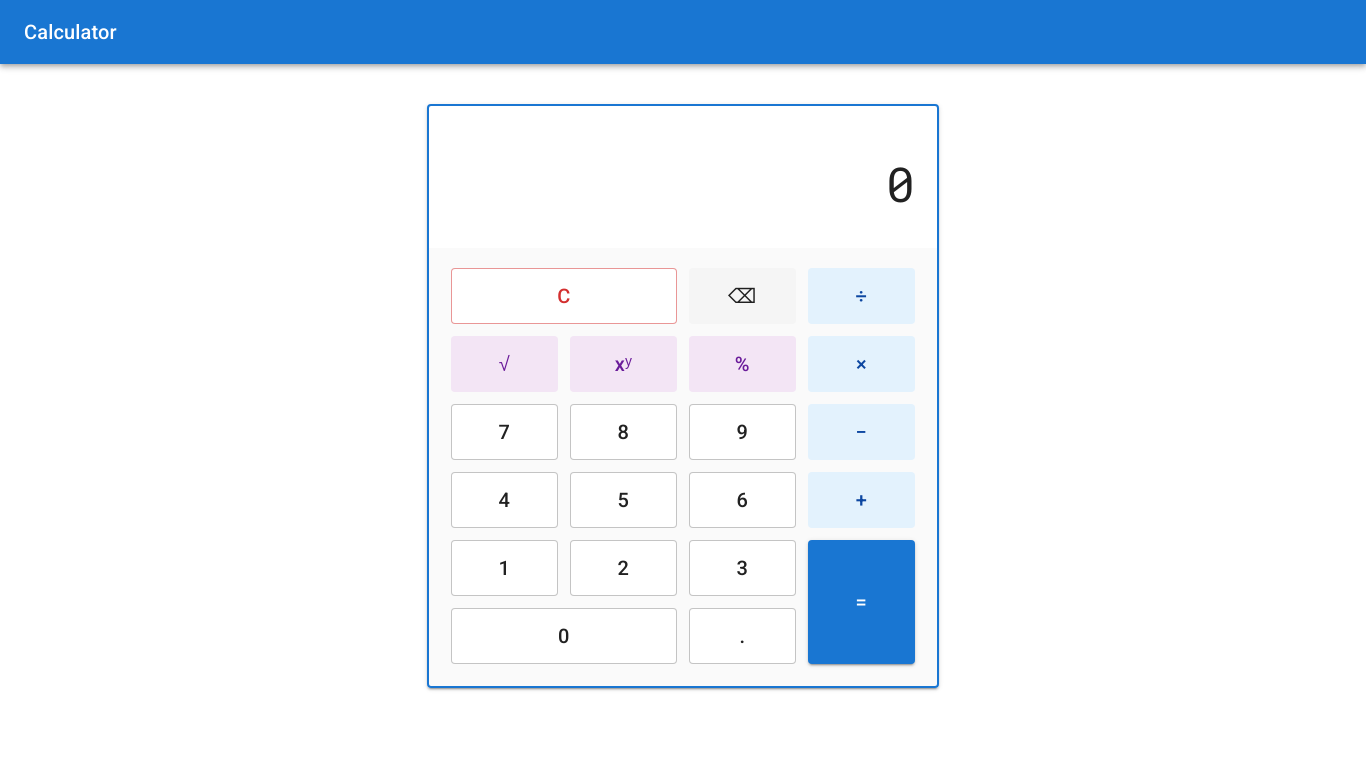
Test: errors › shows a 400 error message on the display instead of the snackbar
Click the button "1" at (504, 568), box [451, 540, 558, 596]
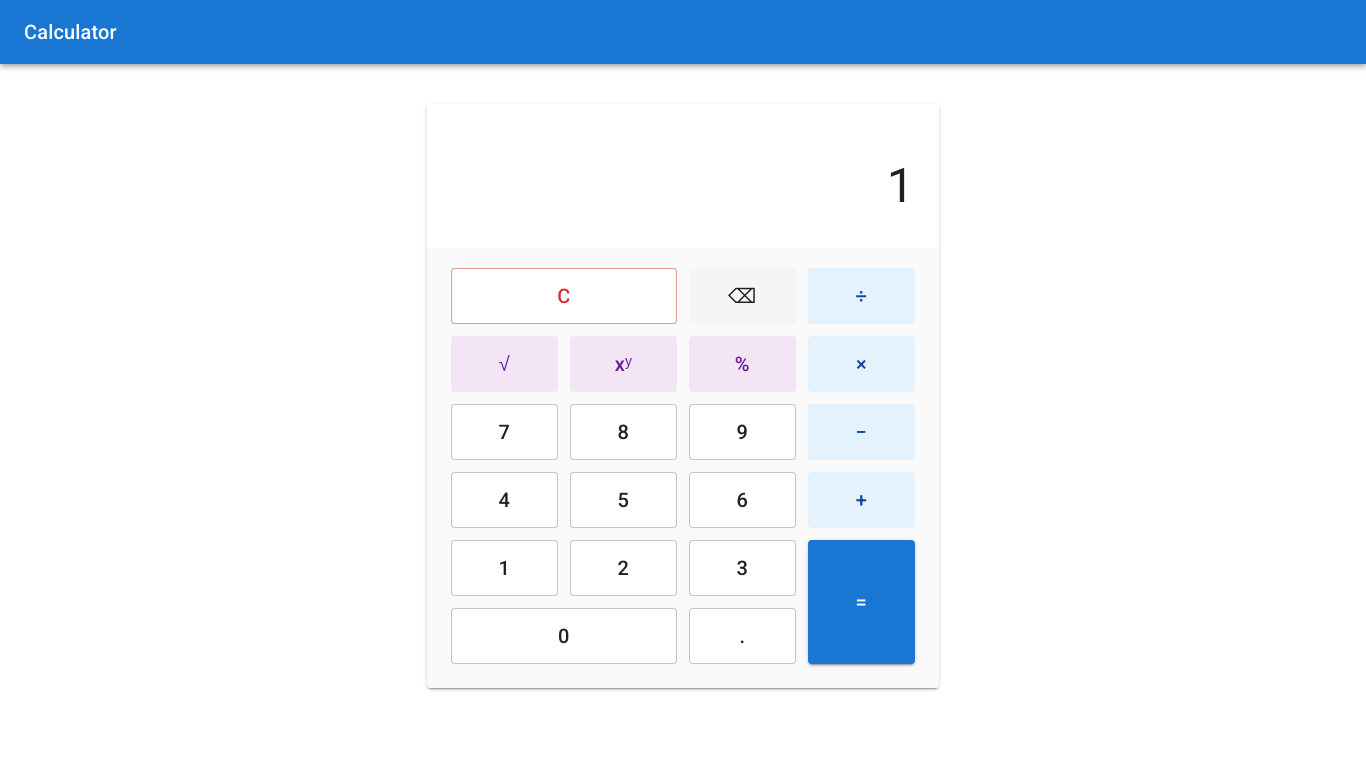
Click the button named "Divide" at (862, 296), box [808, 268, 915, 324]
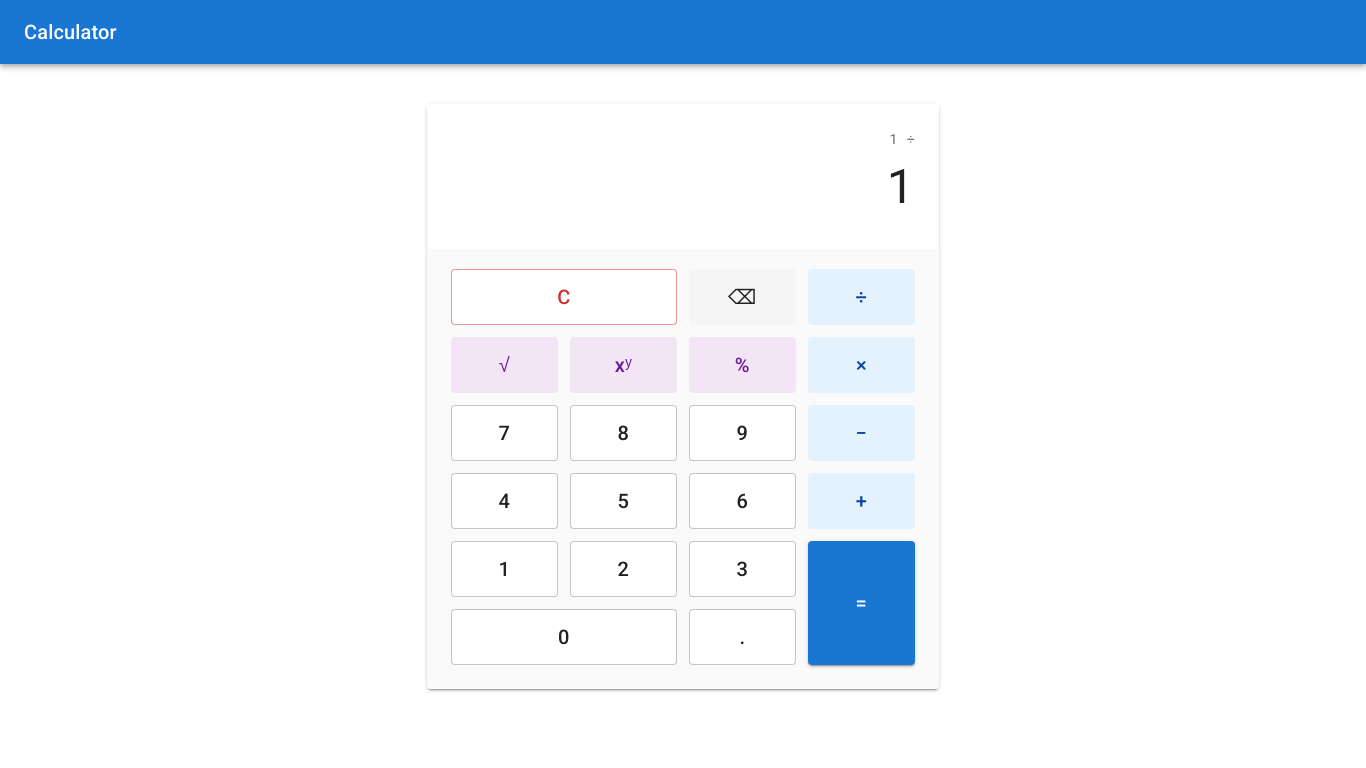
Click the button "0" at (564, 637), box [451, 609, 677, 665]
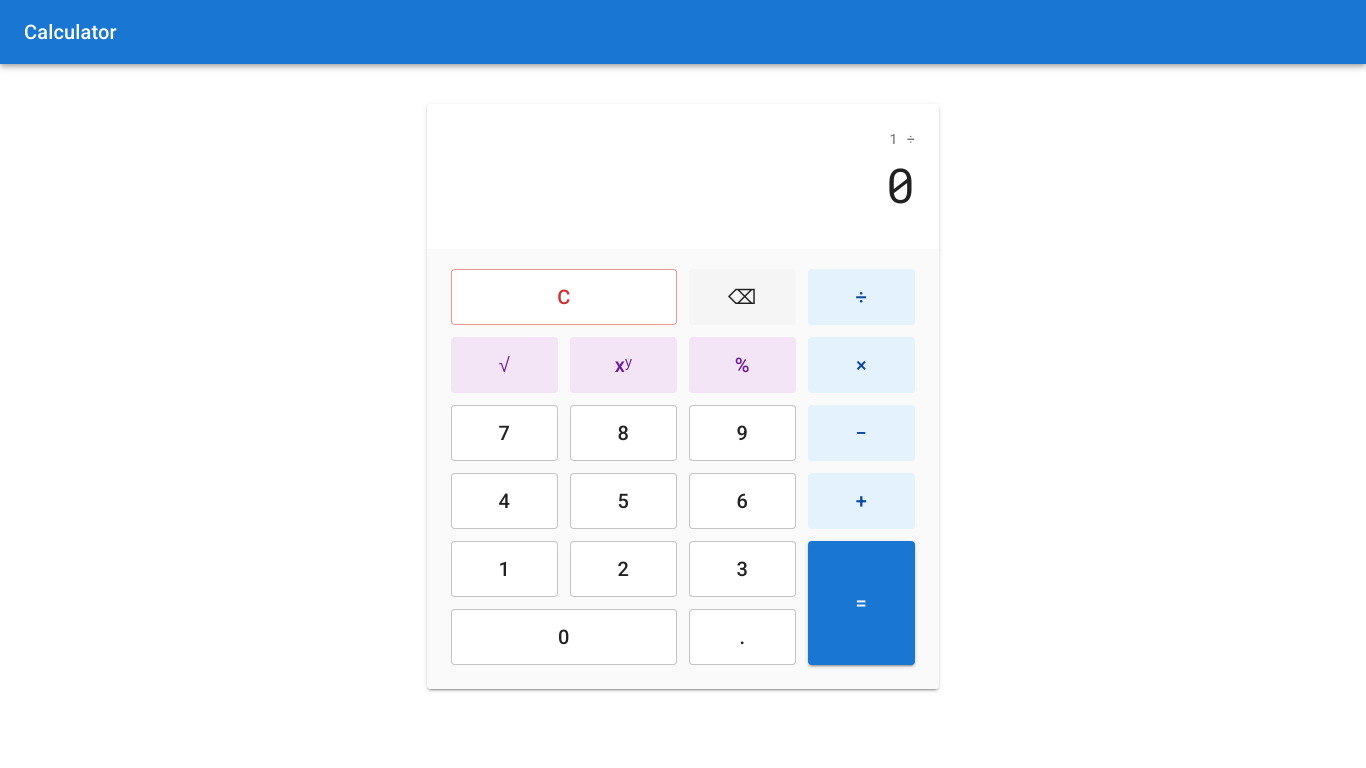
Click the button named "Equals" at (862, 603), box [808, 541, 915, 665]
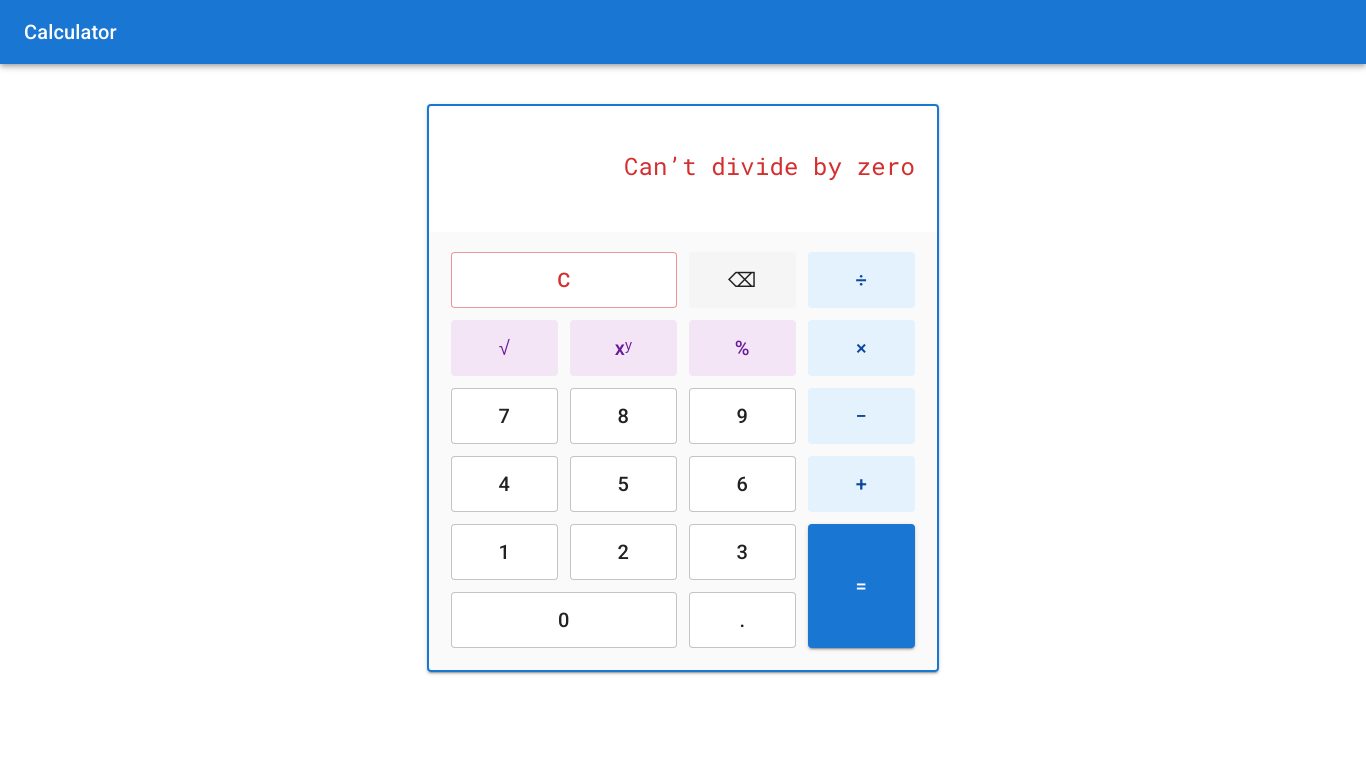
Expected: the text with test id "value" reads "Can’t divide by zero", [624, 150, 915, 182]
